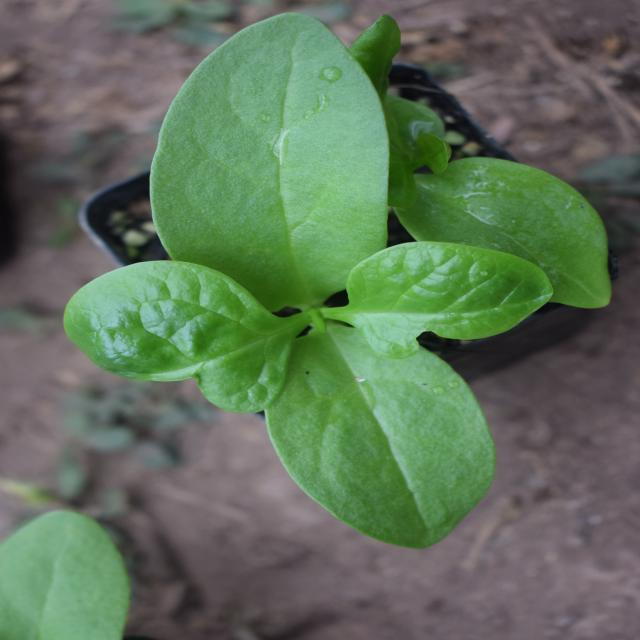Ceylon spinach: (102, 79, 600, 580)
